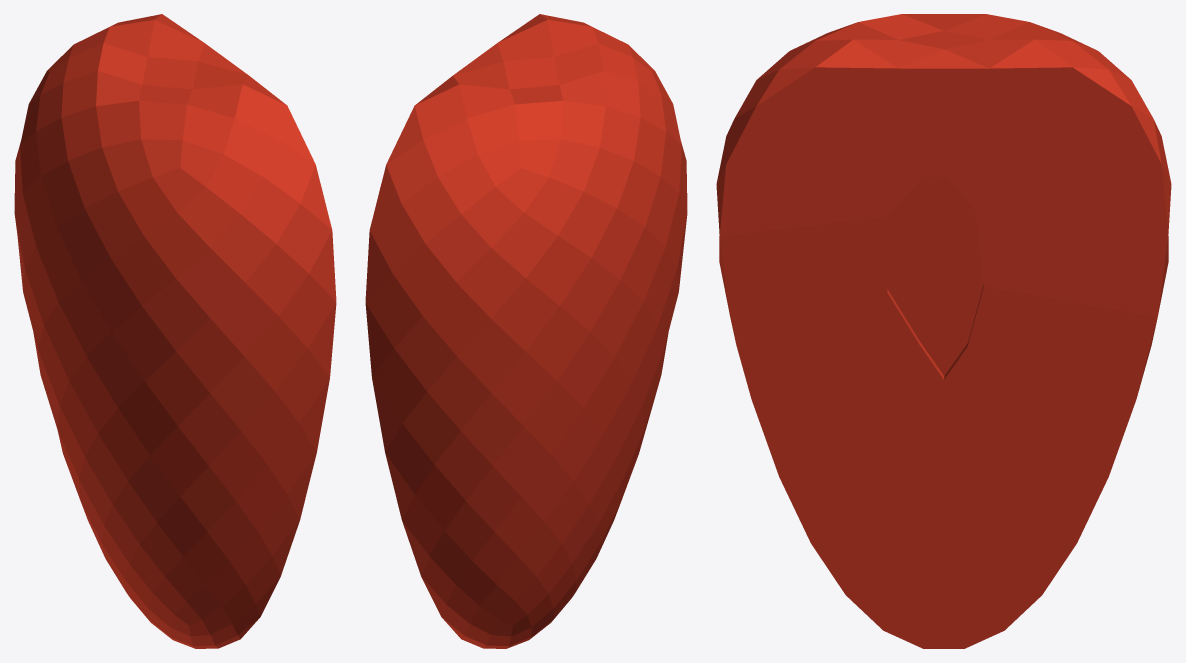
Rendered from strawberry_slice_2.glb.
3 views of the same model, side by side, from view 1: azimuth 30°, elevation 25°; view 2: azimuth 150°, elevation 25°; view 3: azimuth 270°, elevation 25° (orthographic). The views are drawn at different scales.
Parts seen in each view (by area): view 1: StrawberrySlice.001; view 2: StrawberrySlice.001; view 3: StrawberrySlice.001.
Boxes of the visible parts, x1,y1,x2,y2 form: StrawberrySlice.001: (14, 14, 336, 648); StrawberrySlice.001: (365, 14, 687, 648); StrawberrySlice.001: (716, 14, 1171, 648).
Bounding box in the file's own units: 1.14 × 3.77 × 2.56.
